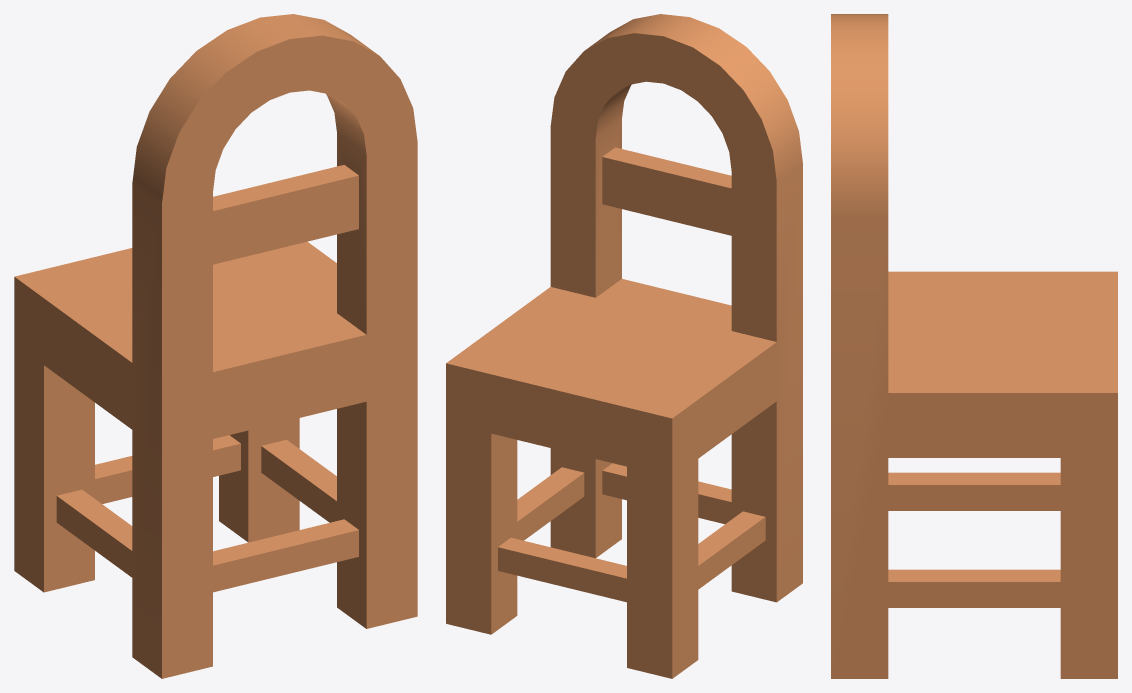
Rendered from chairRounded.dae.
3 renders of one model, left to right at view 1: azimuth 30°, elevation 25°; view 2: azimuth 150°, elevation 25°; view 3: azimuth 270°, elevation 25°, orthographic. The views are drawn at different scales.
Parts seen in each view (by area): view 1: chairRounded; view 2: chairRounded; view 3: chairRounded.
Part boxes in pixels (x1,y1,x2,y2): chairRounded: [14, 14, 417, 678]; chairRounded: [446, 14, 802, 678]; chairRounded: [831, 14, 1117, 678].
Bounding box in the file's own units: 0.2 × 0.455 × 0.2.
